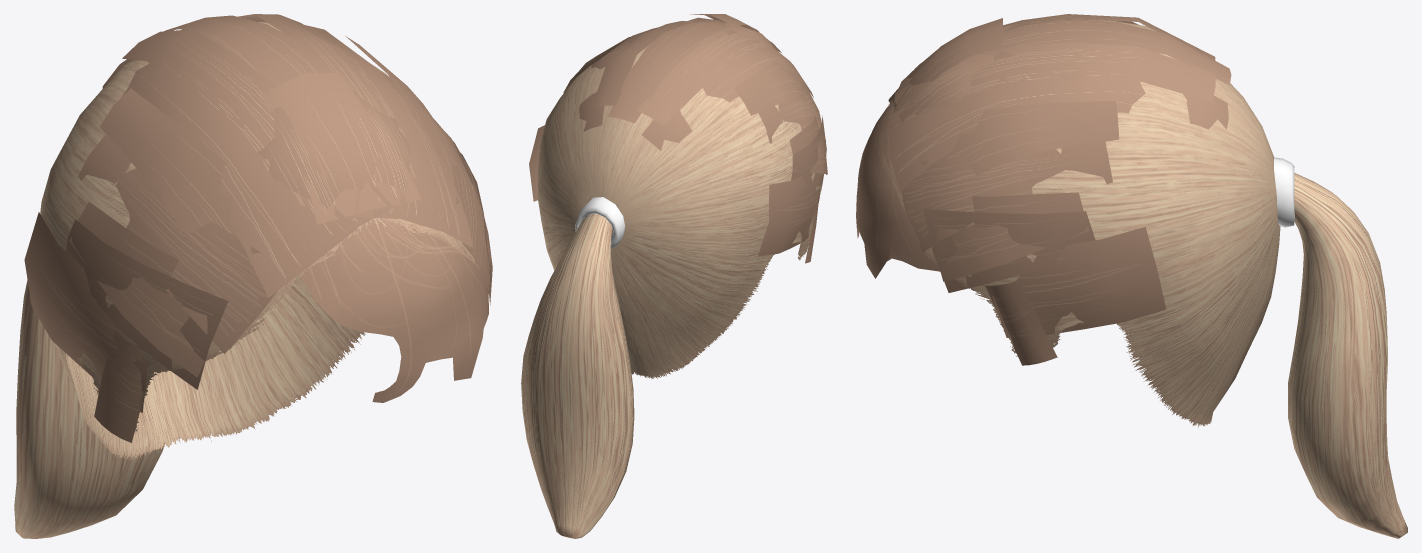
Rendered from hair_001.obj.
3 renders of one model, left to right at view 1: azimuth 30°, elevation 25°; view 2: azimuth 150°, elevation 25°; view 3: azimuth 270°, elevation 25°, orthographic. The views are drawn at different scales.
Size of the model in its own units: 17.18 by 26.95 by 26.03.
